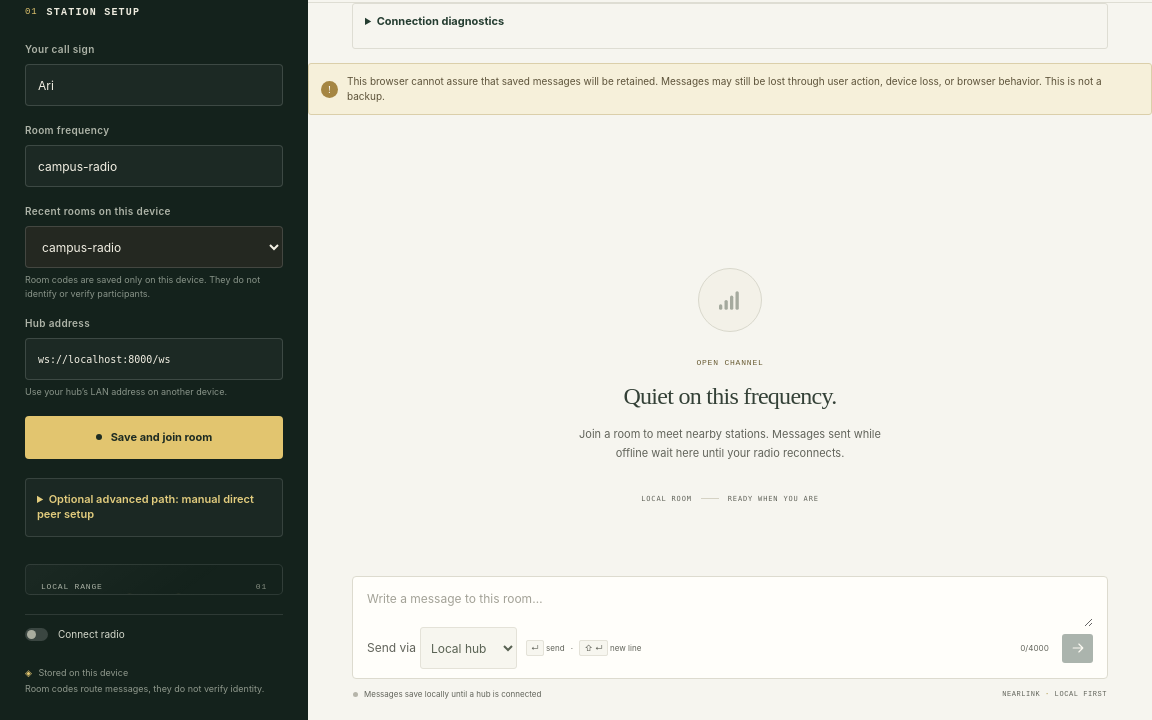
browser app messaging flow › fails an incomplete storage scan before publishing a local inventory
The width and height of the screenshot is (1152, 720).
(page scrolled)
Click the button "Connect radio" at {"x": 154, "y": 634}, box [25, 614, 283, 654]
(page scrolled)
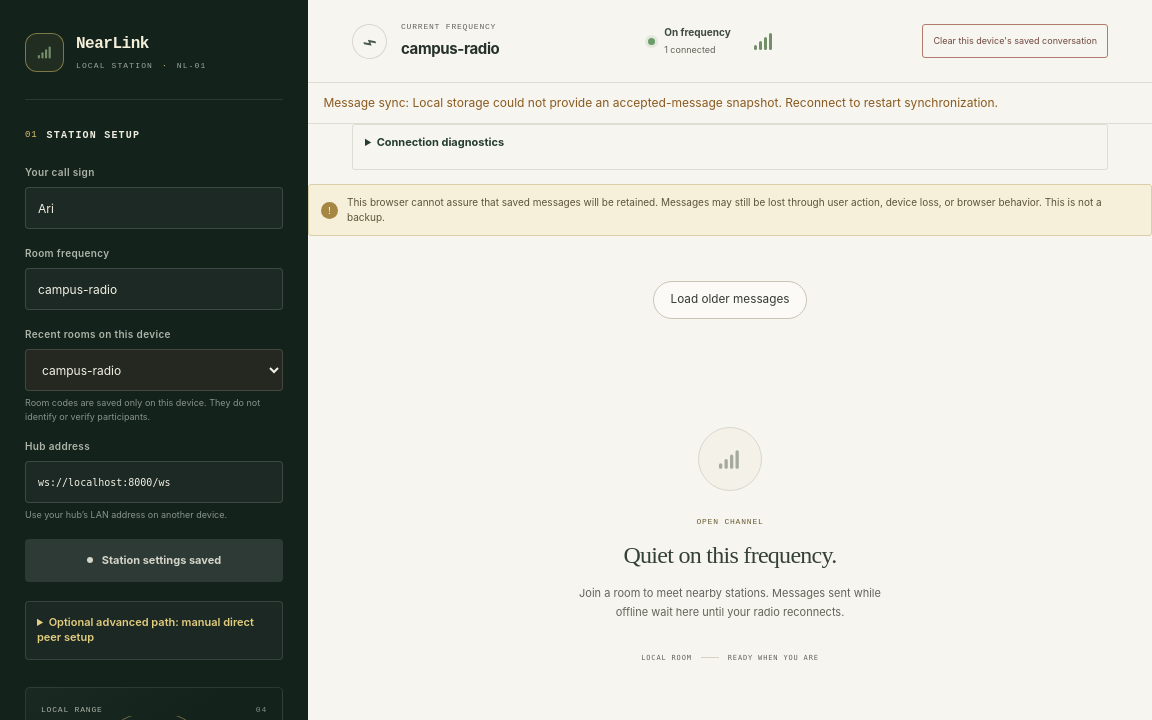
Check: the text "On frequency" is shown, box [664, 25, 731, 40]
Check: the text "Local storage could not provide an accepted-message snapshot" is shown, box [412, 95, 998, 110]
